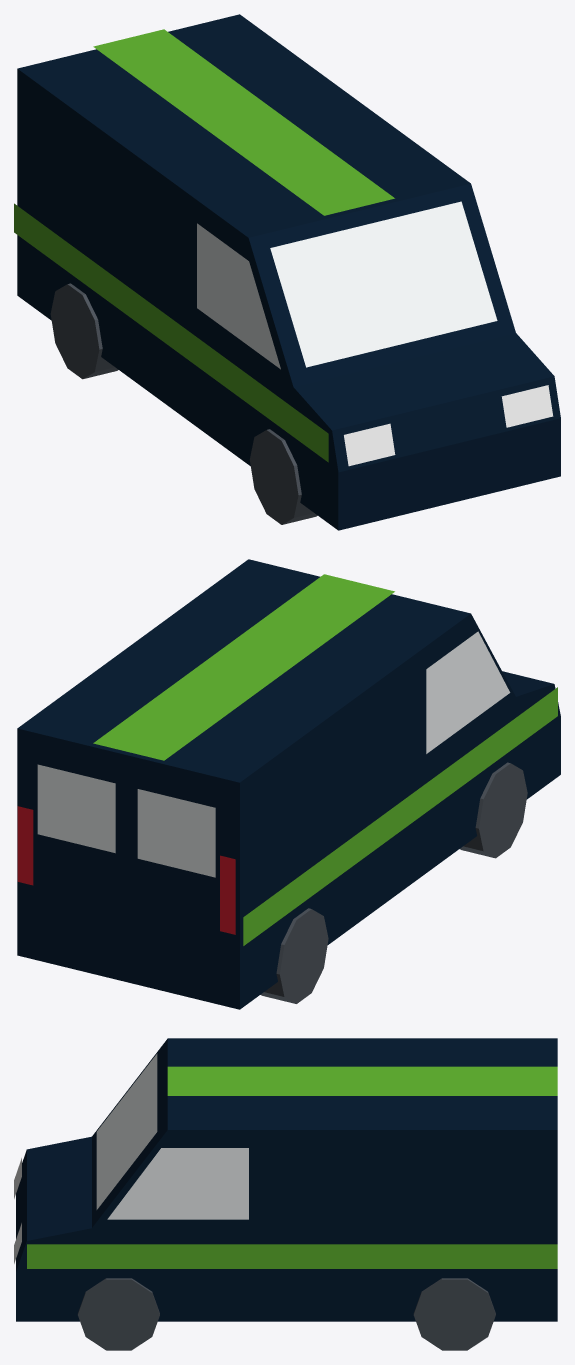
File: van.glb
3 renders of one model, top to bottom at view 1: azimuth 30°, elevation 25°; view 2: azimuth 150°, elevation 25°; view 3: azimuth 270°, elevation 25°, orthographic. The views are drawn at different scales.
Visible parts, largest first — view 1: van; view 2: van; view 3: van.
Part boxes in pixels (box(x1,y1,x2,y2)): van: box(14, 14, 560, 530); van: box(17, 559, 560, 1009); van: box(14, 1038, 557, 1350).
Size of the model in its own units: 2.06 by 2.26 by 5.05.
